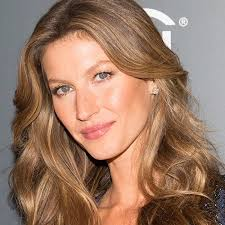white_female: (44, 27, 172, 178)
